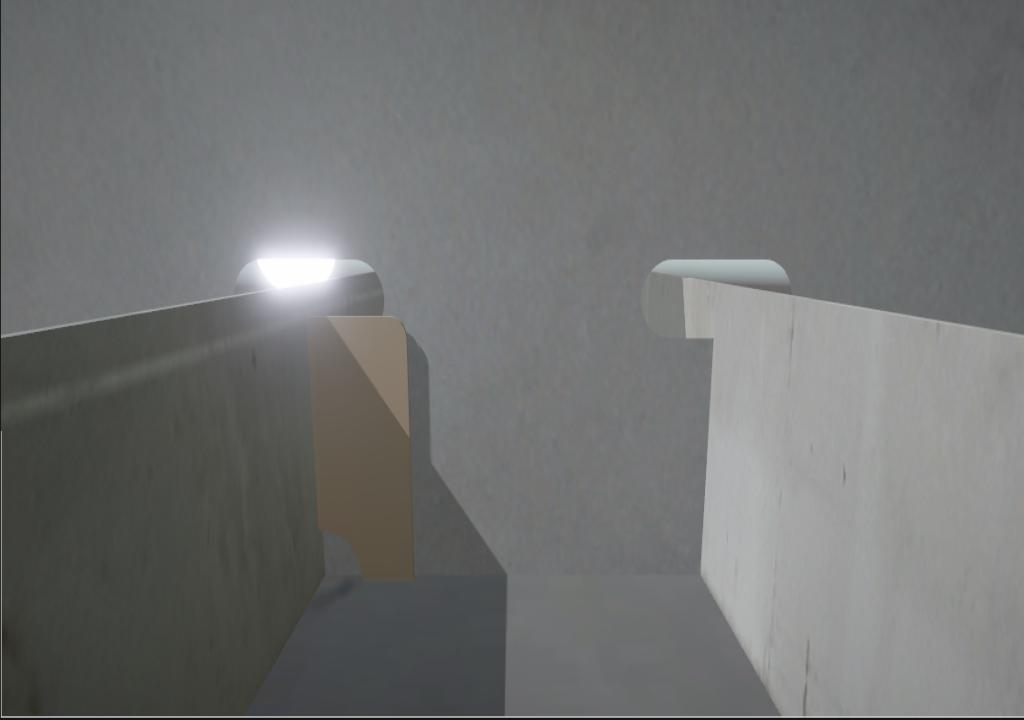fillet_yong_jeop_jang: (323, 569, 706, 578)
longi_yong_jeop_jang: (692, 332, 722, 584)
plate_CP06: (309, 314, 415, 583)
